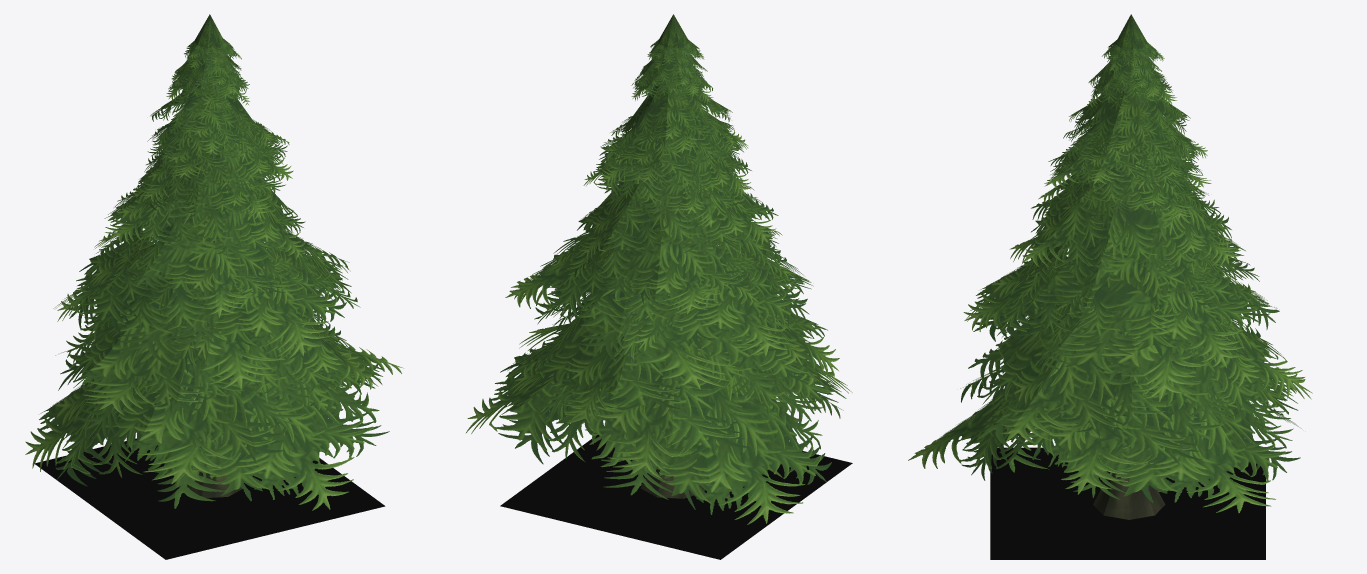
The model's file is jj_tyshu06.FBX.
The picture shows the model from 3 angles, left to right: view 1: azimuth 30°, elevation 25°; view 2: azimuth 150°, elevation 25°; view 3: azimuth 270°, elevation 25°; orthographic projection. The views are drawn at different scales.
Visible parts, largest first — view 1: jj_tyshu06_1, shadow, jj_tyshu06; view 2: jj_tyshu06_1, shadow, jj_tyshu06; view 3: jj_tyshu06_1, shadow, jj_tyshu06.
Boxes of the visible parts, bbox=[...] form: jj_tyshu06_1: bbox=[25, 14, 403, 510]; shadow: bbox=[35, 438, 385, 559]; jj_tyshu06: bbox=[179, 471, 242, 497]; jj_tyshu06_1: bbox=[466, 14, 852, 524]; shadow: bbox=[500, 434, 852, 559]; jj_tyshu06: bbox=[640, 467, 704, 498]; jj_tyshu06_1: bbox=[908, 14, 1312, 513]; shadow: bbox=[990, 447, 1265, 559]; jj_tyshu06: bbox=[1093, 471, 1165, 519].
Bounding box in the file's own units: 380 × 462 × 383.
3 materials, 3 textured.
